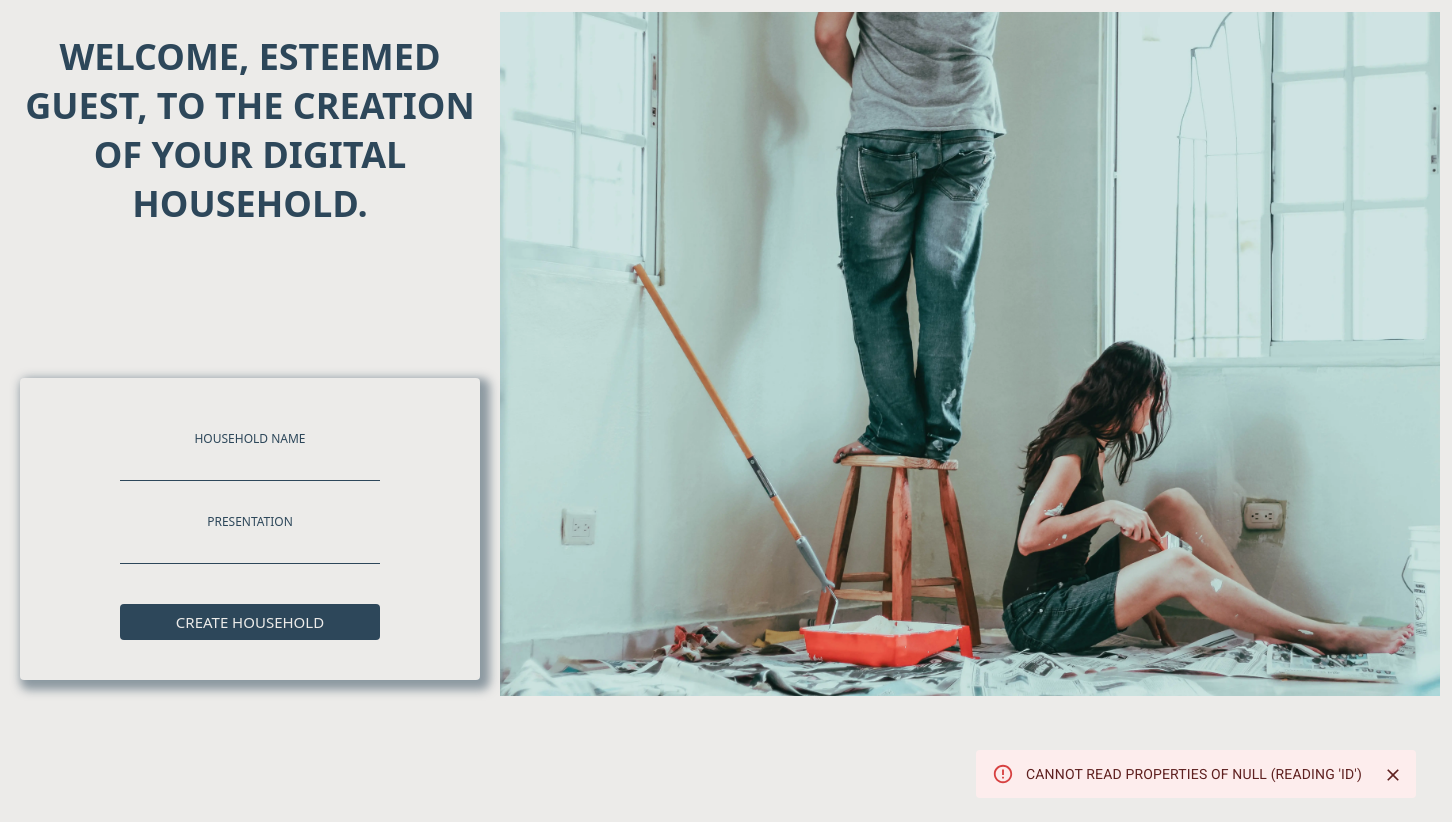
CreateHousehold Component › displays error message for empty fields
The image size is (1452, 822).
Click the button "Create Household" at x=250, y=622, box [120, 604, 380, 640]
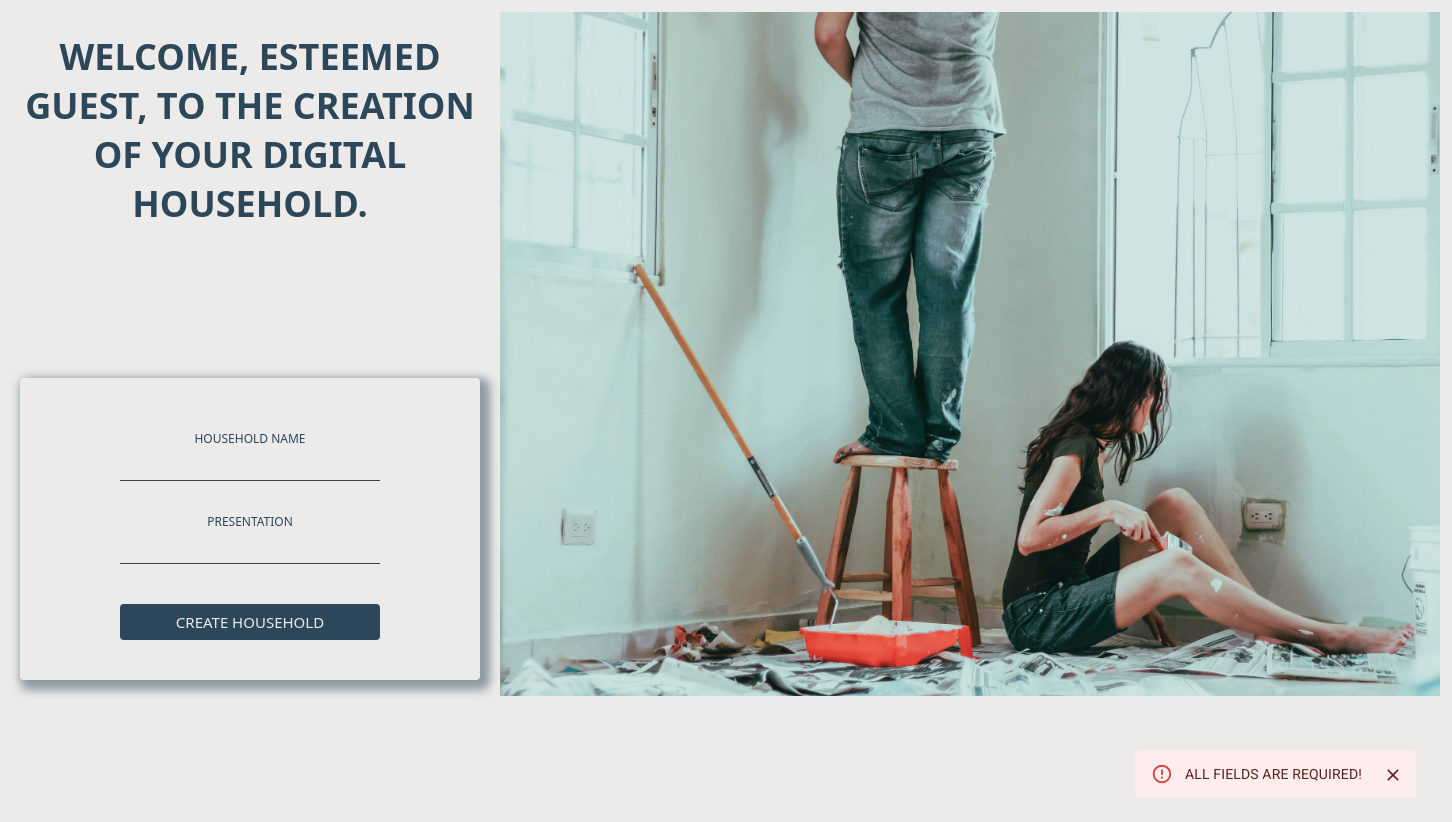
Check: the text "All fields are required!" is shown, box [1185, 764, 1362, 784]
